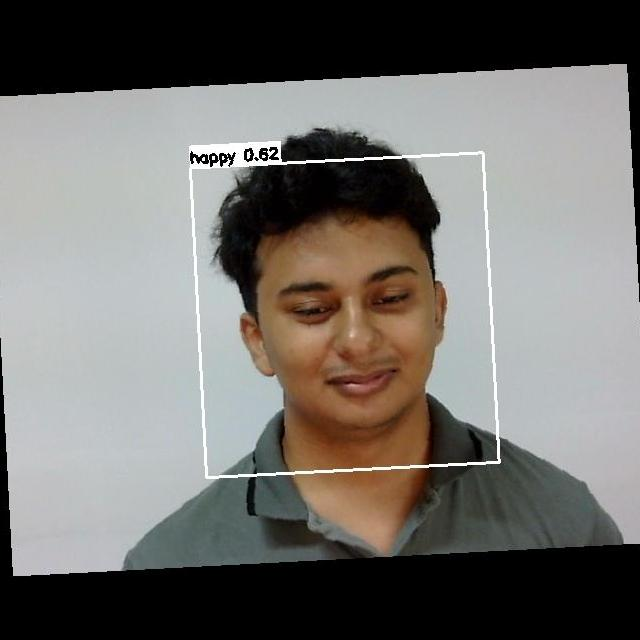Happy: (262, 242, 440, 414)
